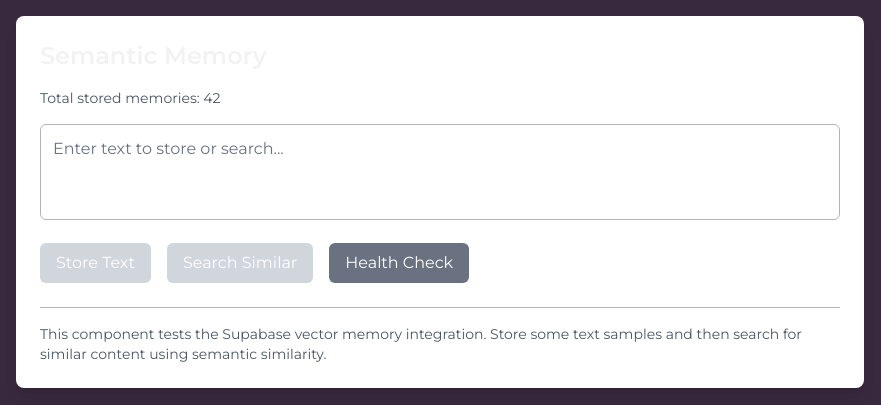
Test case: VectorMemory › search functionality › should enable search button when text is entered
Type "Search query" into the text box with placeholder "Enter text to store or search..." at (440, 172), box [40, 124, 840, 220]
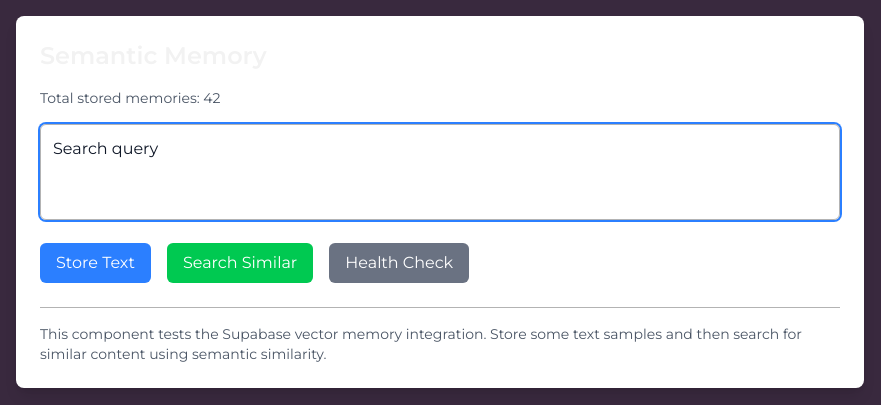
Check: the button "Search Similar" is enabled, box [167, 243, 313, 283]
